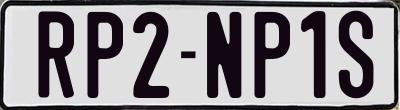1: (301, 11, 330, 100)
2: (131, 12, 167, 100)
N: (205, 9, 242, 100)
P: (84, 9, 121, 101), (254, 9, 293, 95)
R: (37, 10, 76, 98)
S: (338, 8, 378, 95)
